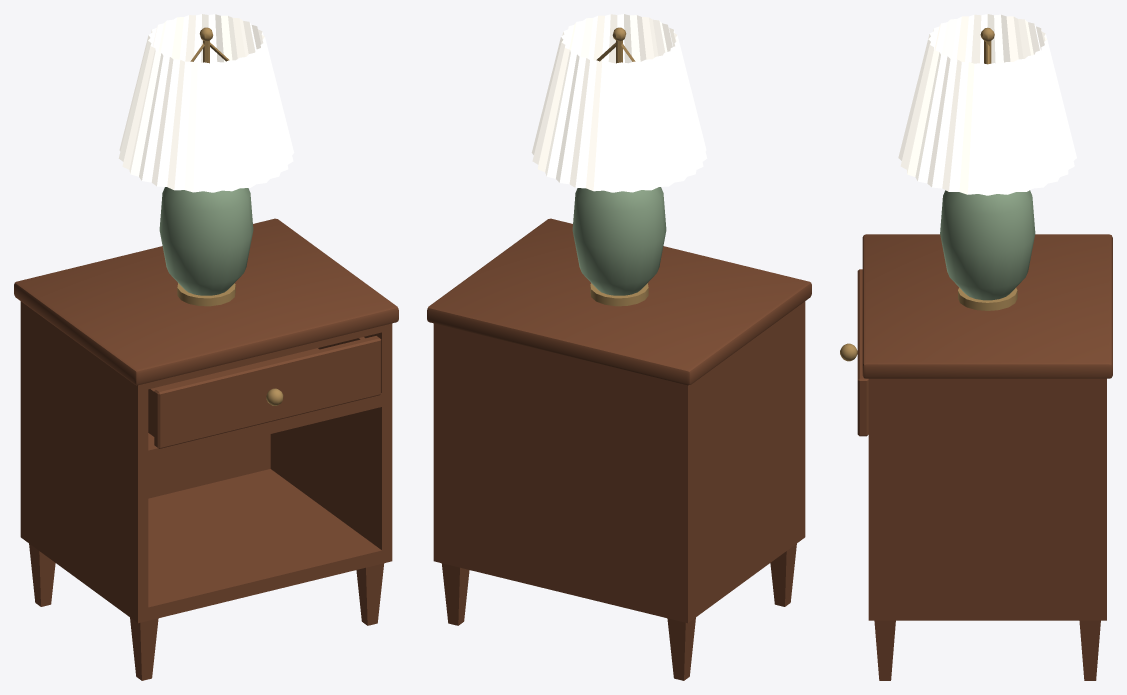
The model's file is nightstand_lamp.glb.
3 views of the same model, side by side, from view 1: azimuth 30°, elevation 25°; view 2: azimuth 150°, elevation 25°; view 3: azimuth 270°, elevation 25° (orthographic).
Visible parts, largest first — view 1: nightstand_lamp, lamp, drawer; view 2: nightstand_lamp, lamp; view 3: nightstand_lamp, lamp, drawer.
Part boxes in pixels (x1,y1,x2,y2): nightstand_lamp: (14,218,398,680); lamp: (118,14,294,306); drawer: (148,336,381,448); nightstand_lamp: (427,218,811,680); lamp: (531,14,707,306); nightstand_lamp: (862,234,1112,680); lamp: (898,14,1076,310); drawer: (840,269,868,436).
Size of the model in its own units: 0.52 by 1.1 by 0.4576.
